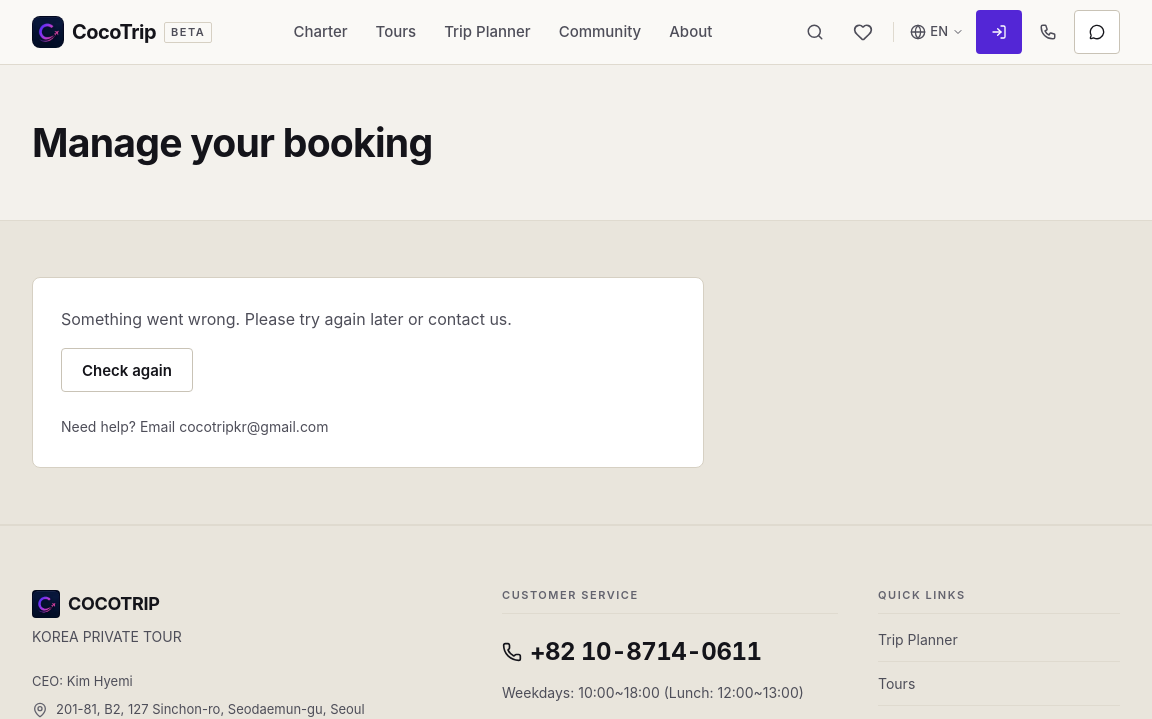
/booking/manage › network failure on the first lookup → error screen with "check again"
The image size is (1152, 719).
Click the button "Check again" at (127, 370), box [61, 348, 193, 392]
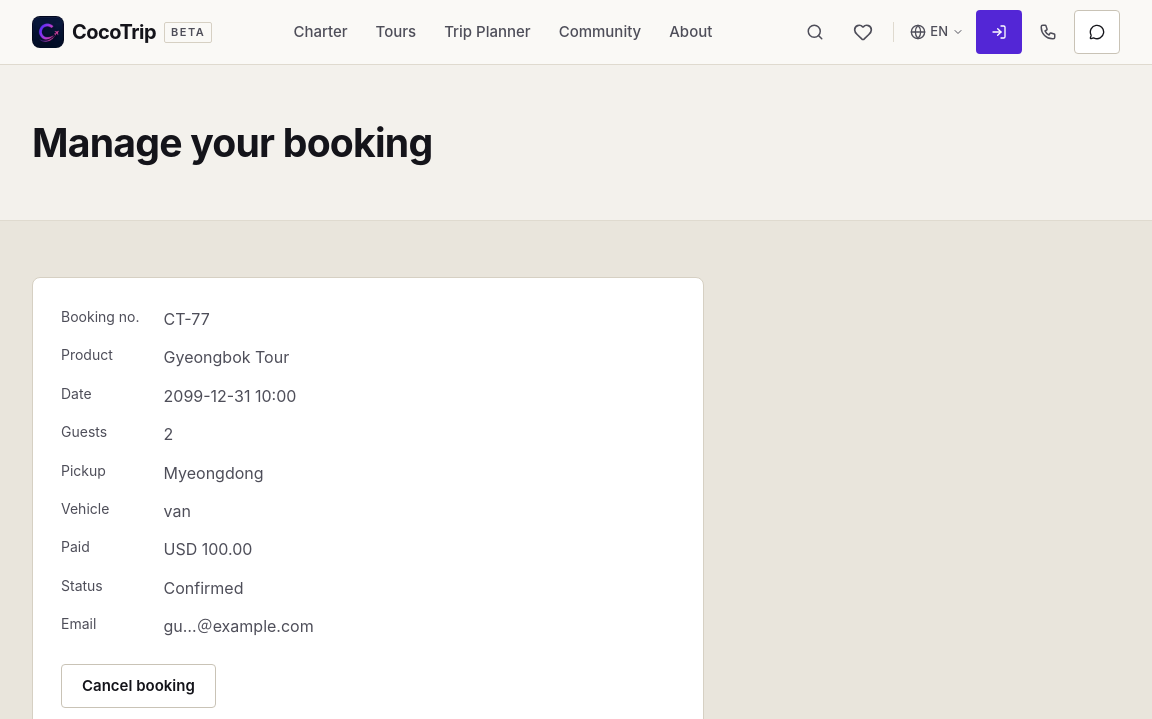
Result: the text "CT-77" is shown at [164, 309, 210, 329]
